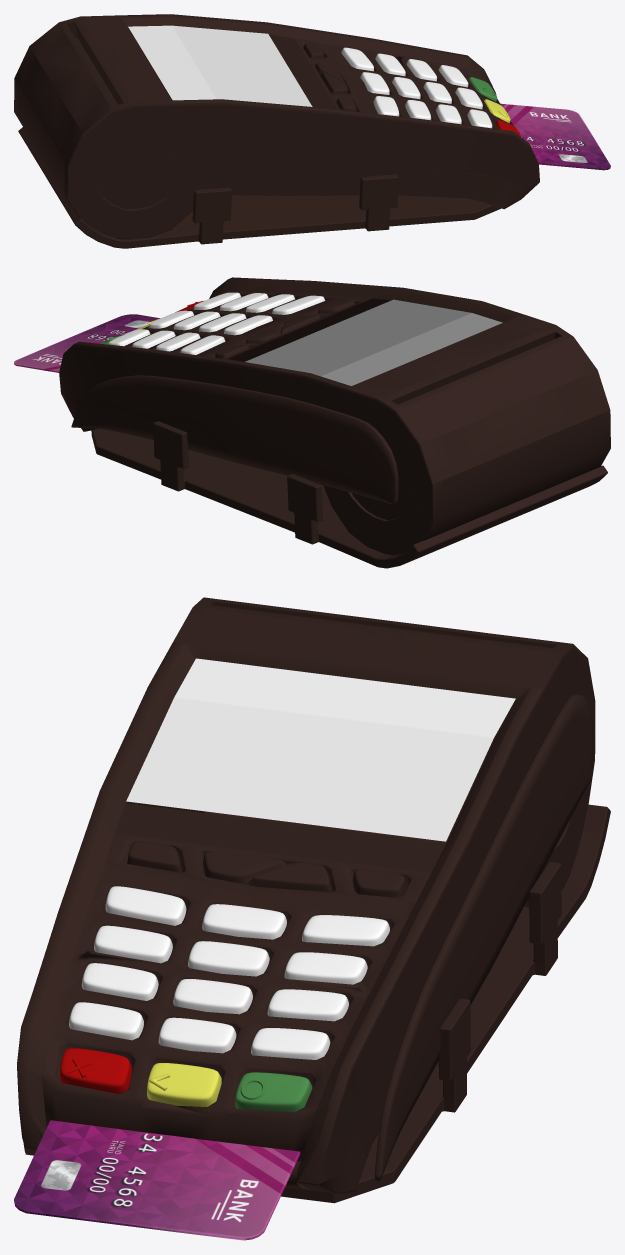
Rendered from POSMachine.gltf.
3 views of the same model, one above another, from view 1: azimuth 30°, elevation 25°; view 2: azimuth 150°, elevation 25°; view 3: azimuth 270°, elevation 25° (orthographic). The views are drawn at different scales.
Parts seen in each view (by area): view 1: POS_machine:polySurface29_12, POS_machine:polySurface5_1, polySurface3_0, POS_machine:polySurface16_7, POS_machine:polySurface21_11, POS_machine:polySurface11_3, POS_machine:polySurface17_8, POS_machine:polySurface14_5, POS_machine:polySurface20_10, POS_machine:polySurface10_2, POS_machine:polySurface13_4, POS_machine:polySurface19_9 (+4 smaller); view 2: POS_machine:polySurface29_12, POS_machine:polySurface5_1, polySurface3_0, POS_machine:polySurface10_2, POS_machine:polySurface21_11, POS_machine:polySurface16_7, POS_machine:polySurface15_6, POS_machine:polySurface17_8, POS_machine:polySurface9_17, POS_machine:polySurface20_10, POS_machine:polySurface11_3, POS_machine:polySurface14_5 (+2 smaller); view 3: POS_machine:polySurface29_12, POS_machine:polySurface5_1, polySurface3_0, POS_machine:polySurface18_22, POS_machine:polySurface7_24, POS_machine:polySurface23_23, POS_machine:polySurface21_11, POS_machine:polySurface16_7, POS_machine:polySurface17_8, POS_machine:polySurface10_2, POS_machine:polySurface20_10, POS_machine:polySurface19_9 (+6 smaller).
Part boxes in pixels (box(x1,y1,x2,y2)): POS_machine:polySurface29_12: box(14, 14, 539, 248); POS_machine:polySurface5_1: box(128, 25, 312, 106); polySurface3_0: box(500, 103, 610, 170); POS_machine:polySurface16_7: box(341, 47, 373, 71); POS_machine:polySurface21_11: box(360, 72, 389, 94); POS_machine:polySurface11_3: box(375, 53, 405, 76); POS_machine:polySurface17_8: box(392, 77, 420, 99); POS_machine:polySurface14_5: box(406, 59, 437, 81); POS_machine:polySurface20_10: box(423, 82, 451, 103); POS_machine:polySurface10_2: box(373, 96, 399, 116); POS_machine:polySurface13_4: box(438, 65, 468, 87); POS_machine:polySurface19_9: box(455, 87, 482, 109); POS_machine:polySurface29_12: box(59, 277, 610, 568); POS_machine:polySurface5_1: box(245, 299, 502, 385); polySurface3_0: box(14, 314, 160, 372); POS_machine:polySurface10_2: box(272, 295, 325, 314); POS_machine:polySurface21_11: box(224, 315, 272, 335); POS_machine:polySurface16_7: box(180, 335, 225, 354); POS_machine:polySurface15_6: box(246, 294, 294, 312); POS_machine:polySurface17_8: box(199, 313, 246, 332); POS_machine:polySurface9_17: box(220, 293, 268, 311); POS_machine:polySurface20_10: box(174, 311, 220, 330); POS_machine:polySurface11_3: box(156, 332, 200, 351); POS_machine:polySurface14_5: box(132, 330, 175, 348); POS_machine:polySurface29_12: box(17, 597, 610, 1203); POS_machine:polySurface5_1: box(126, 658, 515, 841); polySurface3_0: box(14, 1120, 300, 1240); POS_machine:polySurface18_22: box(147, 1063, 221, 1106); POS_machine:polySurface7_24: box(60, 1048, 132, 1094); POS_machine:polySurface23_23: box(235, 1072, 312, 1112); POS_machine:polySurface21_11: box(202, 904, 286, 939); POS_machine:polySurface16_7: box(302, 915, 389, 946); POS_machine:polySurface17_8: box(188, 941, 269, 976); POS_machine:polySurface10_2: box(105, 886, 186, 925); POS_machine:polySurface20_10: box(173, 979, 252, 1014); POS_machine:polySurface19_9: box(158, 1017, 236, 1053).
Bounding box in the file's own units: 1.44 × 0.4192 × 0.8121.
7 materials, 1 textured.
